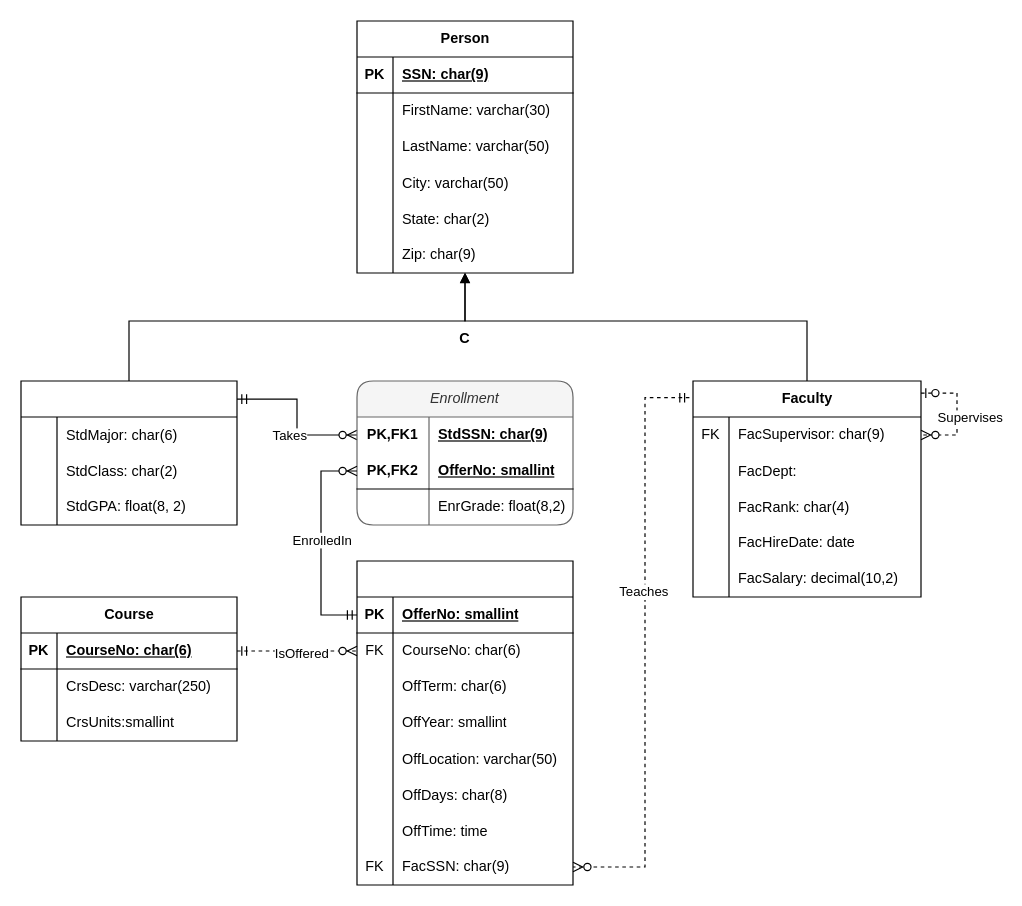
Image size: 1022x906. Some labels were removed from this diagram. The box of each missing label's shape, as (x1, y1, x2, y2) in pixels:
Offering: (356, 560, 573, 885)
Student: (20, 380, 237, 525)
